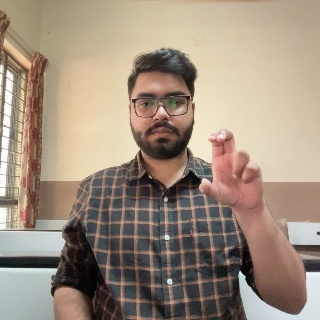Face: (128, 60, 197, 160)
No: (200, 129, 267, 230)
